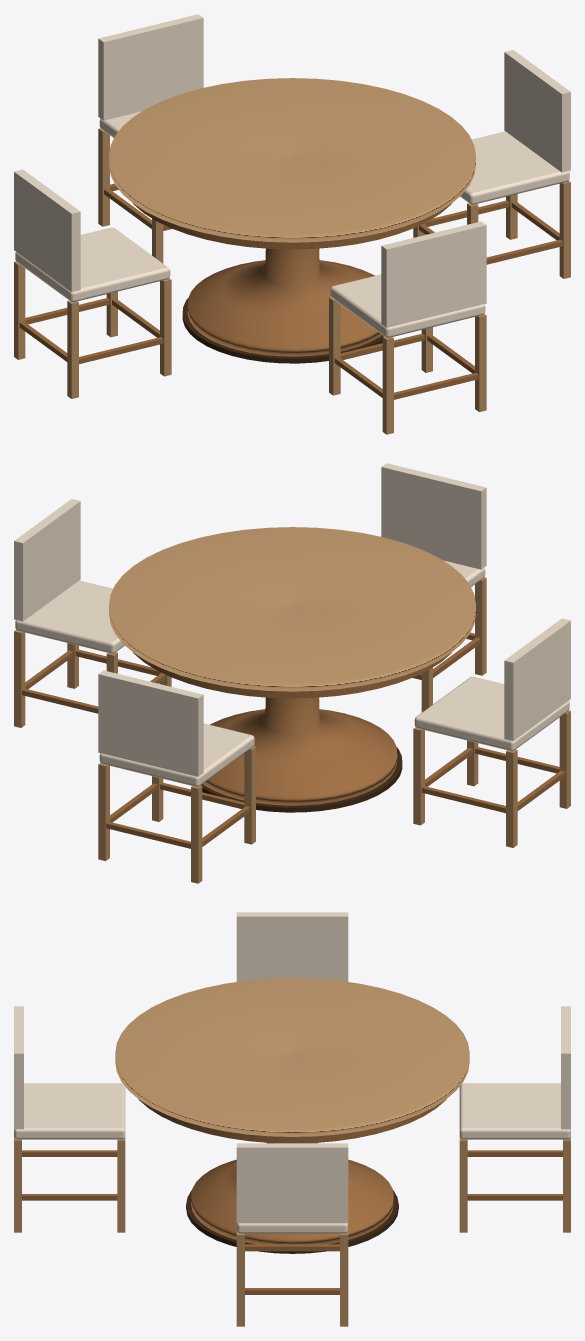
File: rounddiningtable.glb
3 views of the same model, one above another, from view 1: azimuth 30°, elevation 25°; view 2: azimuth 150°, elevation 25°; view 3: azimuth 270°, elevation 25° (orthographic). The views are drawn at different scales.
Parts seen in each view (by area): view 1: material-0-top, material-5-cushion, material-2-body, material-4-leg, material-3-trim, material-1-base; view 2: material-0-top, material-5-cushion, material-2-body, material-4-leg, material-3-trim, material-1-base; view 3: material-0-top, material-5-cushion, material-2-body, material-3-trim, material-4-leg, material-1-base.
Part boxes in pixels (<box>): material-0-top: <box>109,78,475,242</box>; material-5-cushion: <box>14,14,570,337</box>; material-2-body: <box>187,248,381,356</box>; material-4-leg: <box>14,128,570,434</box>; material-3-trim: <box>19,183,562,399</box>; material-1-base: <box>182,298,383,363</box>; material-0-top: <box>109,527,475,691</box>; material-5-cushion: <box>14,463,570,786</box>; material-2-body: <box>203,697,397,805</box>; material-4-leg: <box>14,577,570,883</box>; material-3-trim: <box>22,632,565,848</box>; material-1-base: <box>201,747,402,812</box>; material-0-top: <box>115,978,469,1136</box>; material-5-cushion: <box>14,912,570,1233</box>; material-2-body: <box>191,1142,393,1244</box>; material-3-trim: <box>22,1099,562,1294</box>; material-4-leg: <box>14,1137,570,1326</box>; material-1-base: <box>186,1190,398,1253</box>.
Size of the model in its own units: 2.2 by 0.78 by 2.2.
